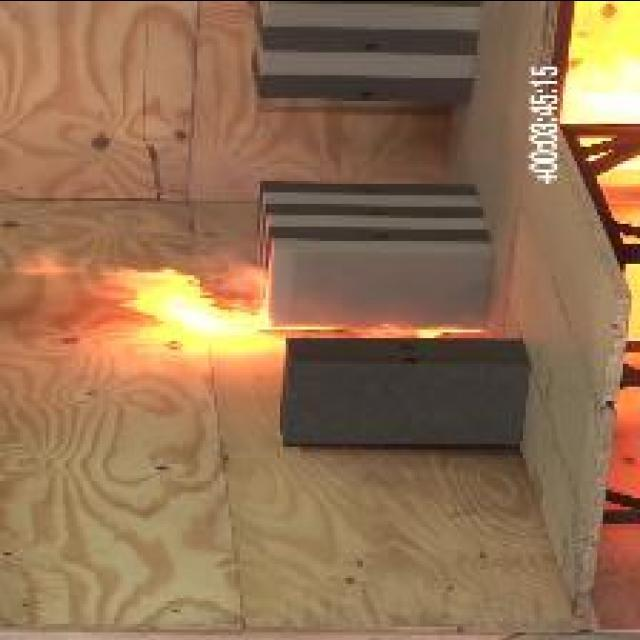Fire: (12, 250, 268, 356)
